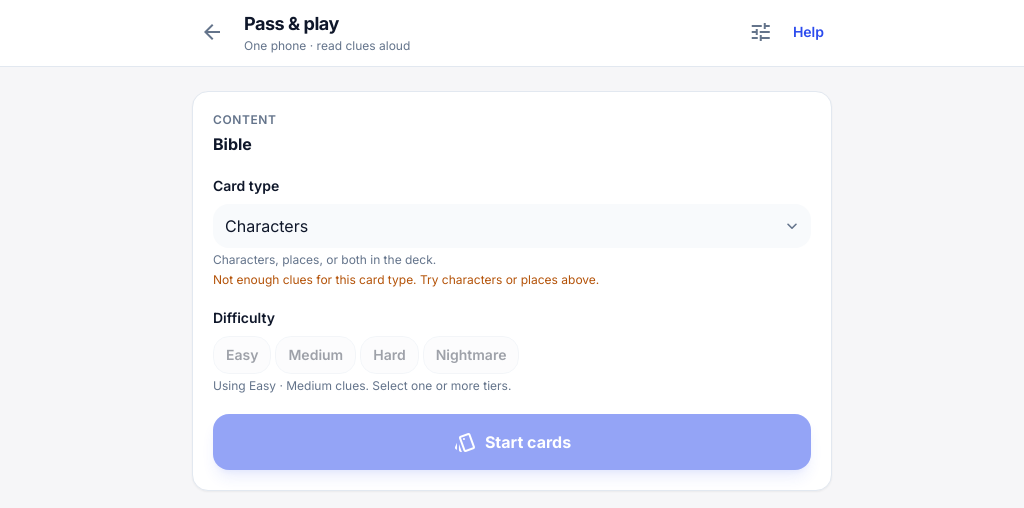
PlaySetup › keeps card type selectable when the current type has no playable content
The width and height of the screenshot is (1024, 508).
Expected: the text "Not enough clues for this card type" is shown, x1=213 y1=272 x2=599 y2=287
Select "Places" in the dropdown labelled "Card type": (512, 226) x1=213 y1=204 x2=811 y2=248
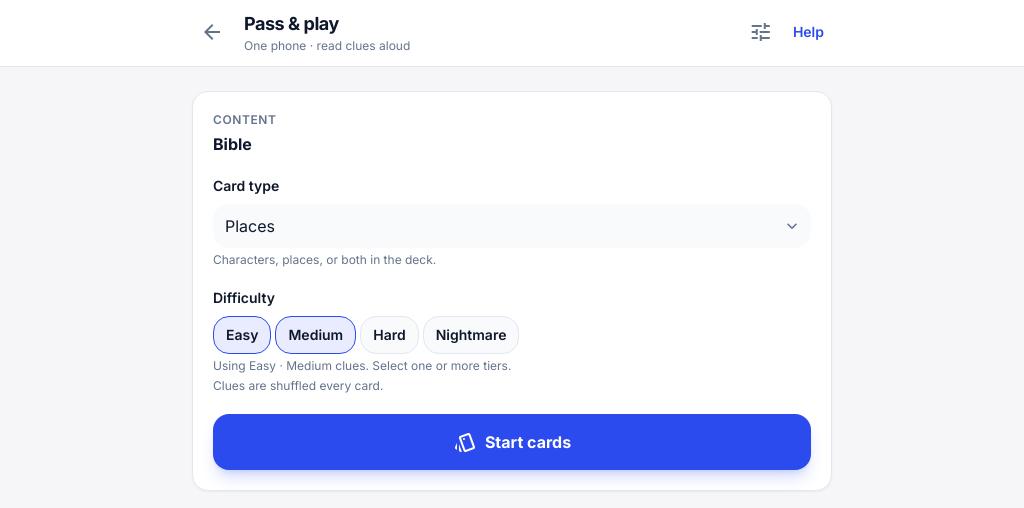
Now the button "Start cards" is enabled, box x1=213 y1=414 x2=811 y2=470
